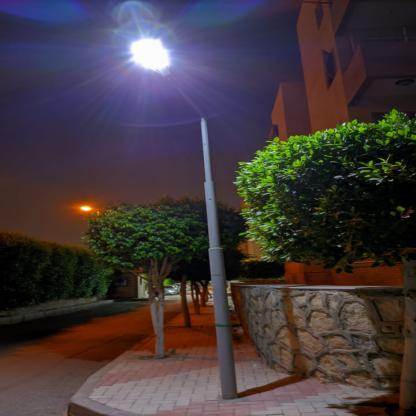light_pole: (128, 38, 241, 399), (79, 205, 104, 249)
